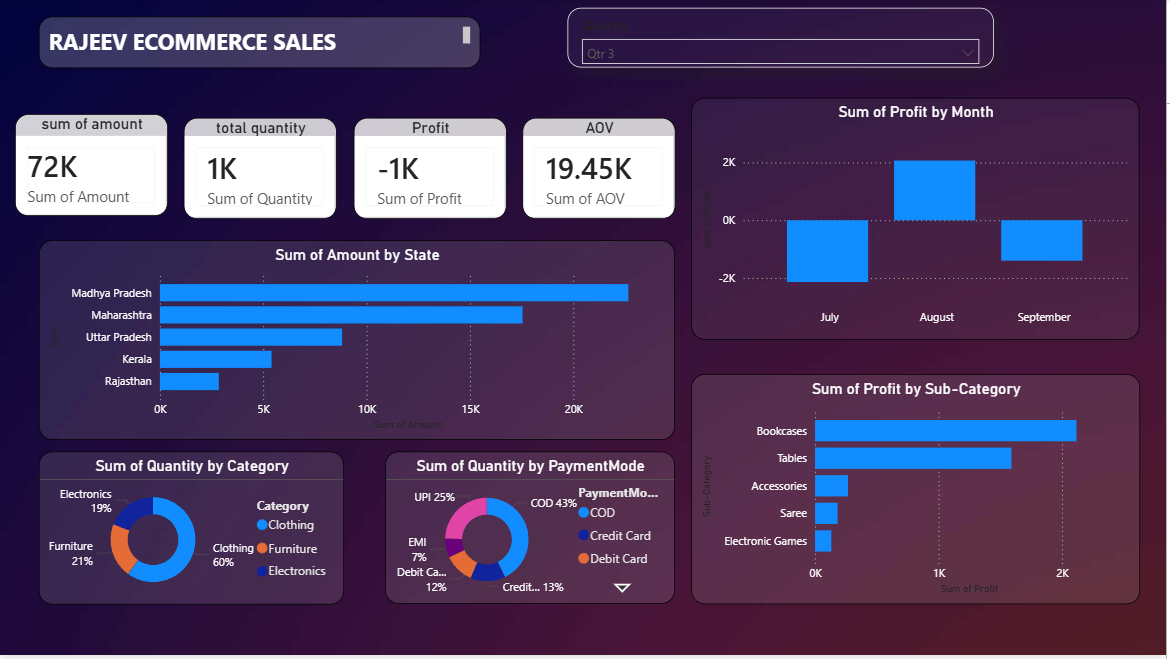

What the dashboard file says about the page in this screenshot:
{"tool":"powerbi","page":{"name":"Page 1","canvas":[1280,720],"ordinal":0},"visuals":[{"type":"textbox","box":[42.2,19.3,485,56.7],"z":0},{"type":"columnChart","fields":{"Category":["Orders.Order Date.Variation.Date Hierarchy.Month"],"Y":["Details.Profit"]},"box":[758.9,108.6,492.2,265.4],"z":1000},{"type":"barChart","fields":{"Category":["Details.Sub-Category"],"Y":["Details.Profit"]},"box":[758.8,411.7,492.6,252.5],"z":2000},{"type":"donutChart","fields":{"Category":["Details.Category"],"Y":["Details.Quantity"]},"box":[42.2,497.1,335.4,167.7],"z":3000},{"type":"donutChart","fields":{"Y":["Details.Quantity"],"Series":["Details.PaymentMode"]},"box":[422.6,496.7,318.4,167.4],"z":4000},{"type":"cardVisual","title":"sum of amount","fields":{"Data":["Details.Amount"]},"box":[16,126,167.7,112],"z":5000},{"type":"cardVisual","title":"total quantity","fields":{"Data":["Details.Quantity"]},"box":[201.5,130.3,167.7,111],"z":6000},{"type":"cardVisual","title":"Profit","fields":{"Data":["Details.Profit"]},"box":[388.5,130.3,167.7,111],"z":7000},{"type":"cardVisual","title":"AOV","fields":{"Data":["Details.AOV"]},"box":[573.1,130.3,167.7,111],"z":8000},{"type":"barChart","fields":{"Category":["Orders.State"],"Y":["Details.Amount"]},"box":[42.5,264.8,698.5,219.6],"z":9000},{"type":"slicer","fields":{"Values":["Orders.Order Date.Variation.Date Hierarchy.Quarter"]},"box":[623,9.6,467.9,65.9],"z":10000}]}

Visuals, with their boxes in screenshot pixels (x1, y1, x2, y2), scaled from the page's 1280x720 canvas onto the 1170x659 screenshot:
textbox: 39 18 482 70
columnChart - Orders.Order Date.Variation.Date Hierarchy.Month x Details.Profit: 694 99 1144 342
barChart - Details.Sub-Category x Details.Profit: 694 377 1144 608
donutChart - Details.Category x Details.Quantity: 39 455 345 608
donutChart - Details.Quantity x Details.PaymentMode: 386 455 677 608
"sum of amount" cardVisual: 15 115 168 218
"total quantity" cardVisual: 184 119 337 221
"Profit" cardVisual: 355 119 508 221
"AOV" cardVisual: 524 119 677 221
barChart - Orders.State x Details.Amount: 39 242 677 443
slicer - Orders.Order Date.Variation.Date Hierarchy.Quarter: 569 9 997 69
